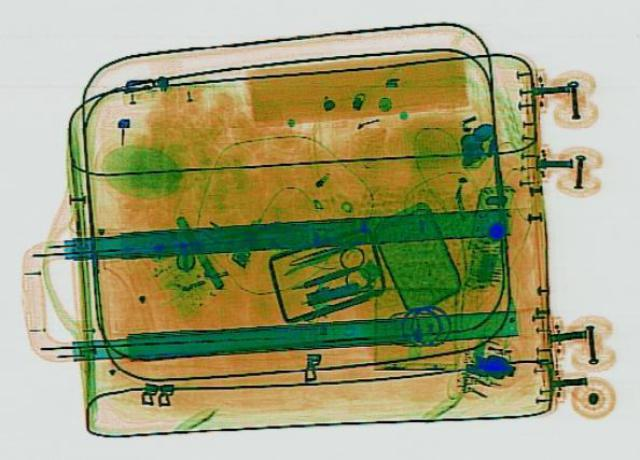Scissors: (276, 243, 382, 304)
